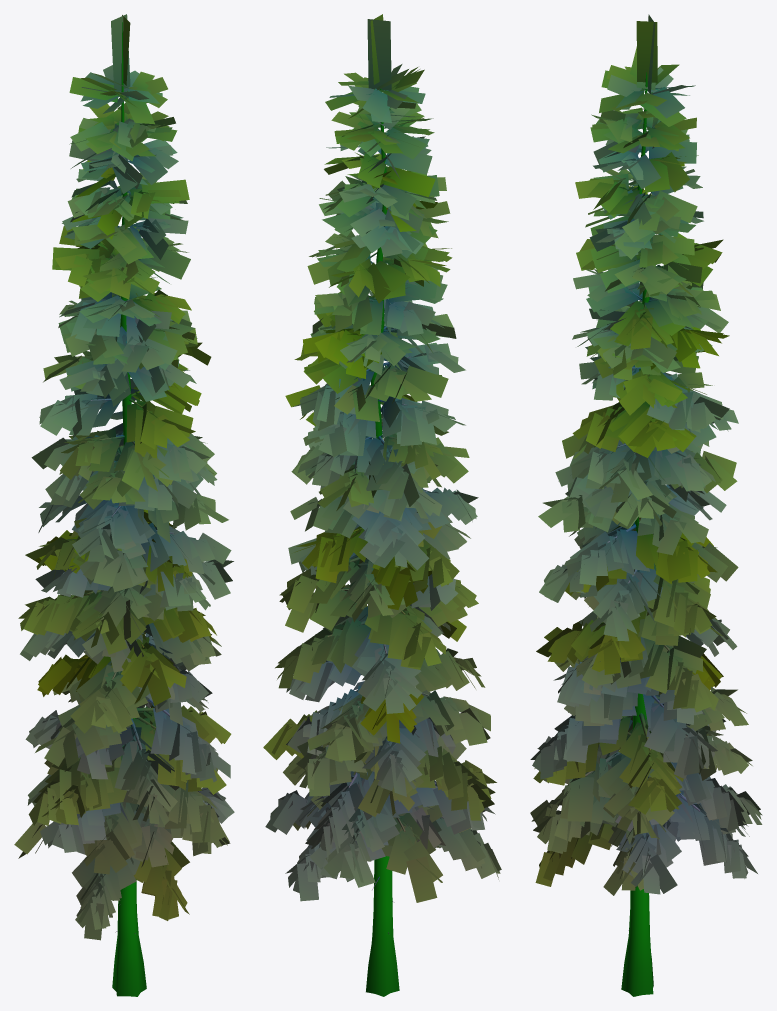
The model's file is spruce_b.glb.
3 renders of one model, left to right at view 1: azimuth 30°, elevation 25°; view 2: azimuth 150°, elevation 25°; view 3: azimuth 270°, elevation 25°, orthographic.
Visible parts, largest first — view 1: LOD0; view 2: LOD0; view 3: LOD0.
Boxes of the visible parts, <box> form: LOD0: <box>14,14,234,996</box>; LOD0: <box>263,14,501,996</box>; LOD0: <box>530,14,762,996</box>.
Size of what is drawn, in the model's own units: 4.65 by 20.48 by 4.46.
